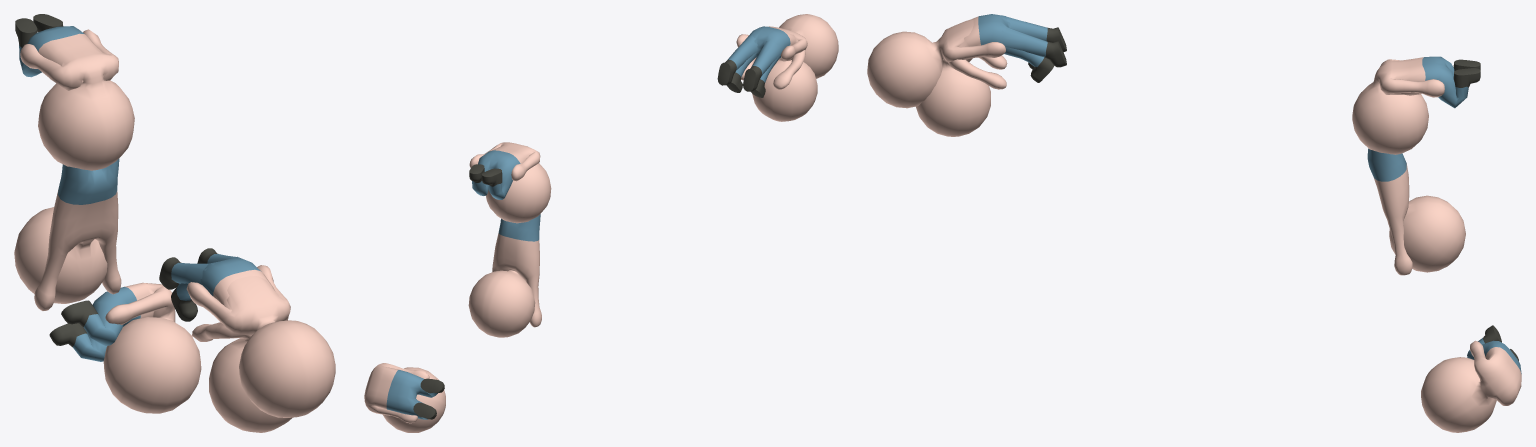
The model's file is Stickmans.fbx.
3 renders of one model, left to right at view 1: azimuth 30°, elevation 25°; view 2: azimuth 150°, elevation 25°; view 3: azimuth 270°, elevation 25°, orthographic. The views are drawn at different scales.
Parts seen in each view (by area): view 1: Rot_1, Hand_1, Leg_1, Line_1, Armor_1; view 2: Line_1, Leg_1, Armor_1, Hand_1, Rot_1; view 3: Rot_1, Leg_1, Line_1, Hand_1, Armor_1.
Part boxes in pixels (x1=…): Rot_1: x1=159, y1=248, x2=335, y2=417; Hand_1: x1=49, y1=282, x2=201, y2=413; Leg_1: x1=15, y1=14, x2=134, y2=170; Line_1: x1=14, y1=158, x2=121, y2=310; Armor_1: x1=171, y1=256, x2=292, y2=432; Line_1: x1=468, y1=214, x2=541, y2=337; Leg_1: x1=469, y1=142, x2=551, y2=223; Armor_1: x1=727, y1=26, x2=817, y2=121; Hand_1: x1=364, y1=363, x2=445, y2=432; Rot_1: x1=717, y1=14, x2=838, y2=91; Rot_1: x1=867, y1=15, x2=1066, y2=108; Leg_1: x1=1352, y1=56, x2=1480, y2=154; Line_1: x1=1367, y1=148, x2=1465, y2=275; Hand_1: x1=1421, y1=325, x2=1521, y2=432; Armor_1: x1=916, y1=14, x2=1053, y2=136.
Size of the model in its own units: 72.13 by 95.37 by 173.
1 material, 1 textured.
